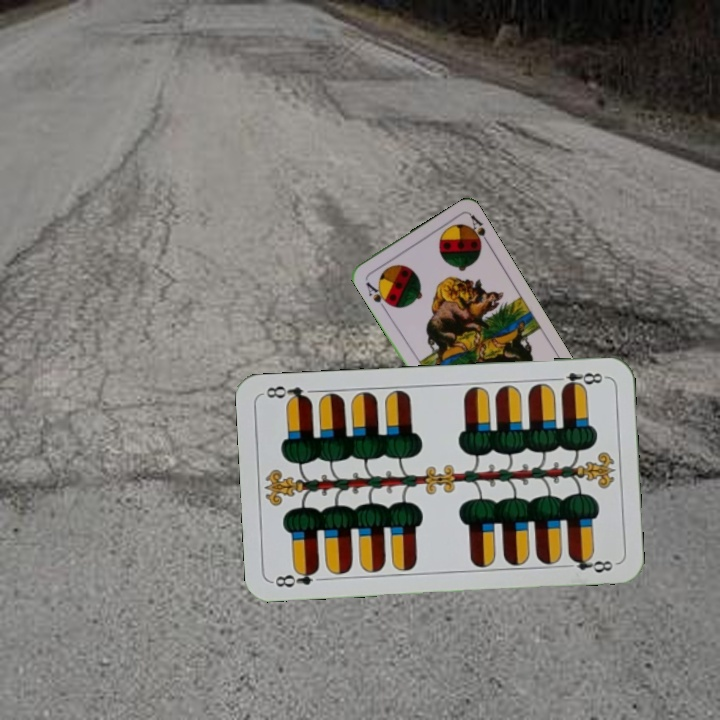E8: (549, 368, 609, 392), (270, 564, 321, 590)
SA: (362, 278, 393, 312)
